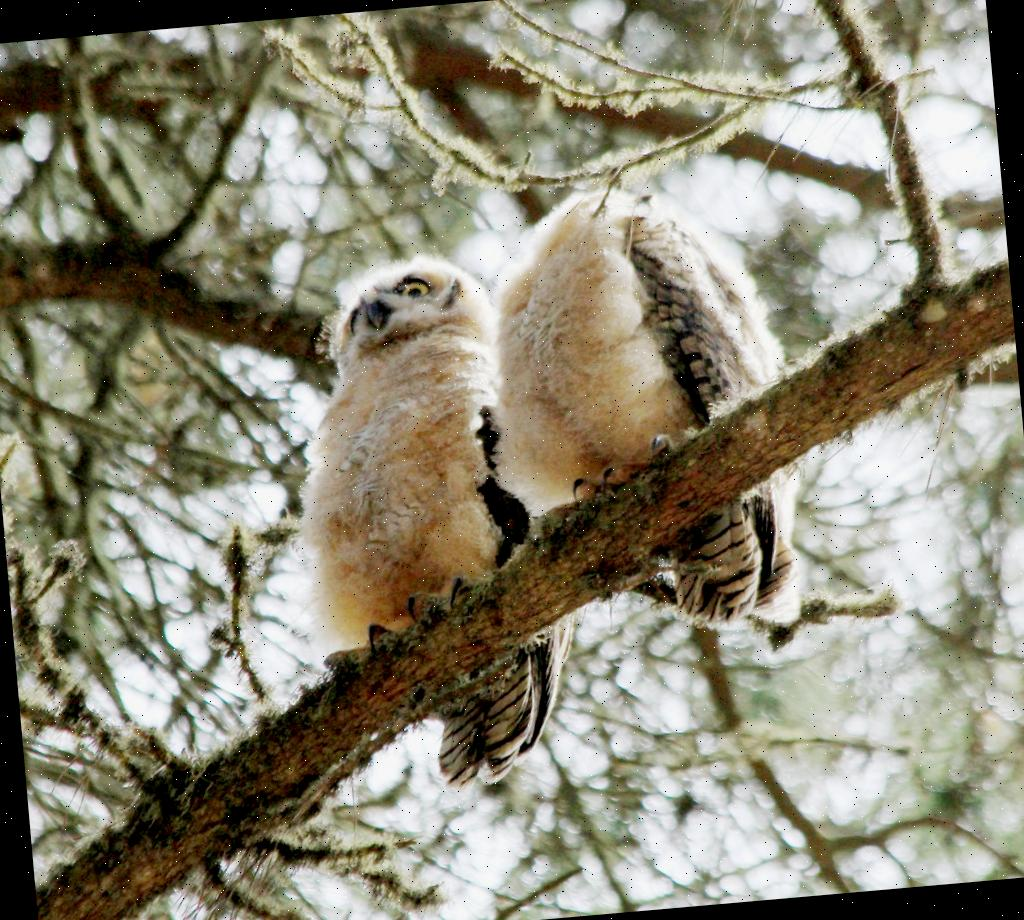Owl: (274, 249, 590, 812), (474, 173, 810, 657)
